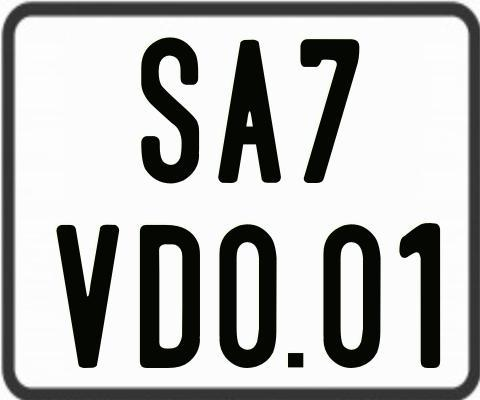0: (219, 224, 283, 372), (323, 224, 386, 374)
1: (399, 222, 443, 371)
7: (297, 38, 359, 188)
A: (217, 39, 284, 183)
D: (138, 222, 200, 368)
S: (141, 36, 200, 186)
V: (55, 224, 117, 368)
